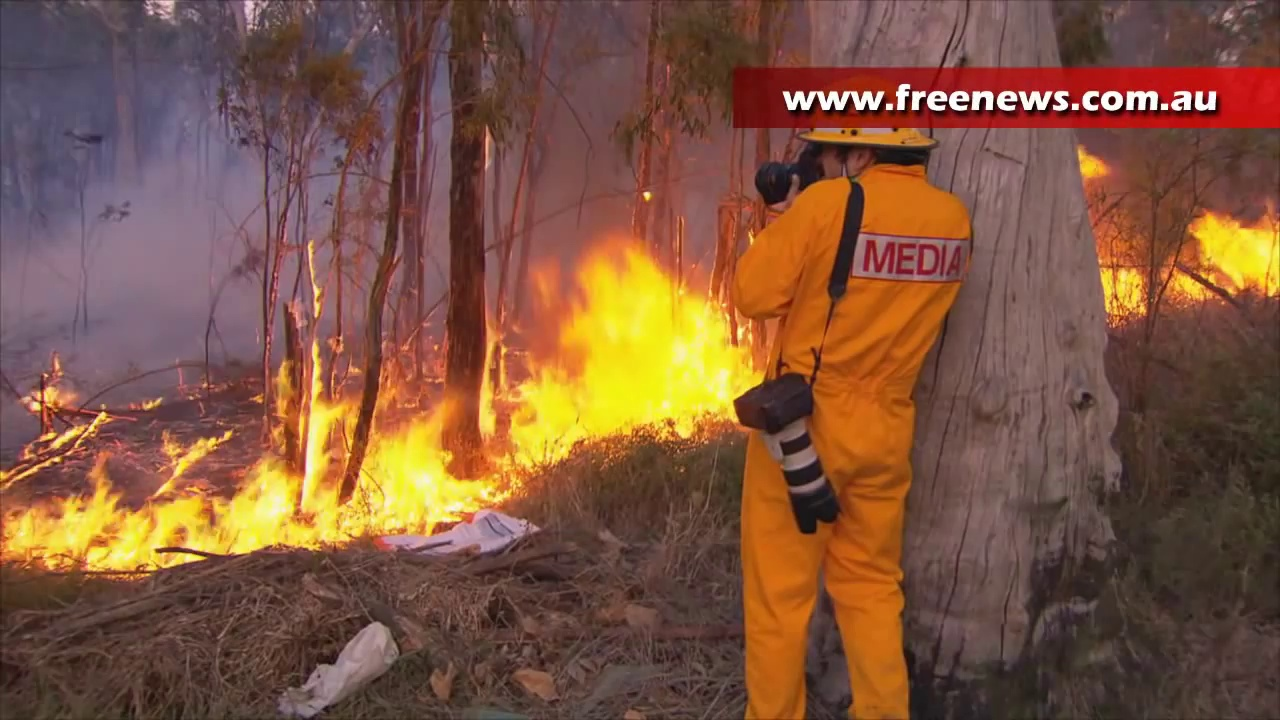fire: (1, 380, 517, 572), (511, 247, 759, 449), (1198, 208, 1280, 292), (1106, 268, 1144, 312), (307, 243, 320, 316), (1077, 146, 1104, 173), (311, 340, 321, 406), (45, 386, 72, 404)
